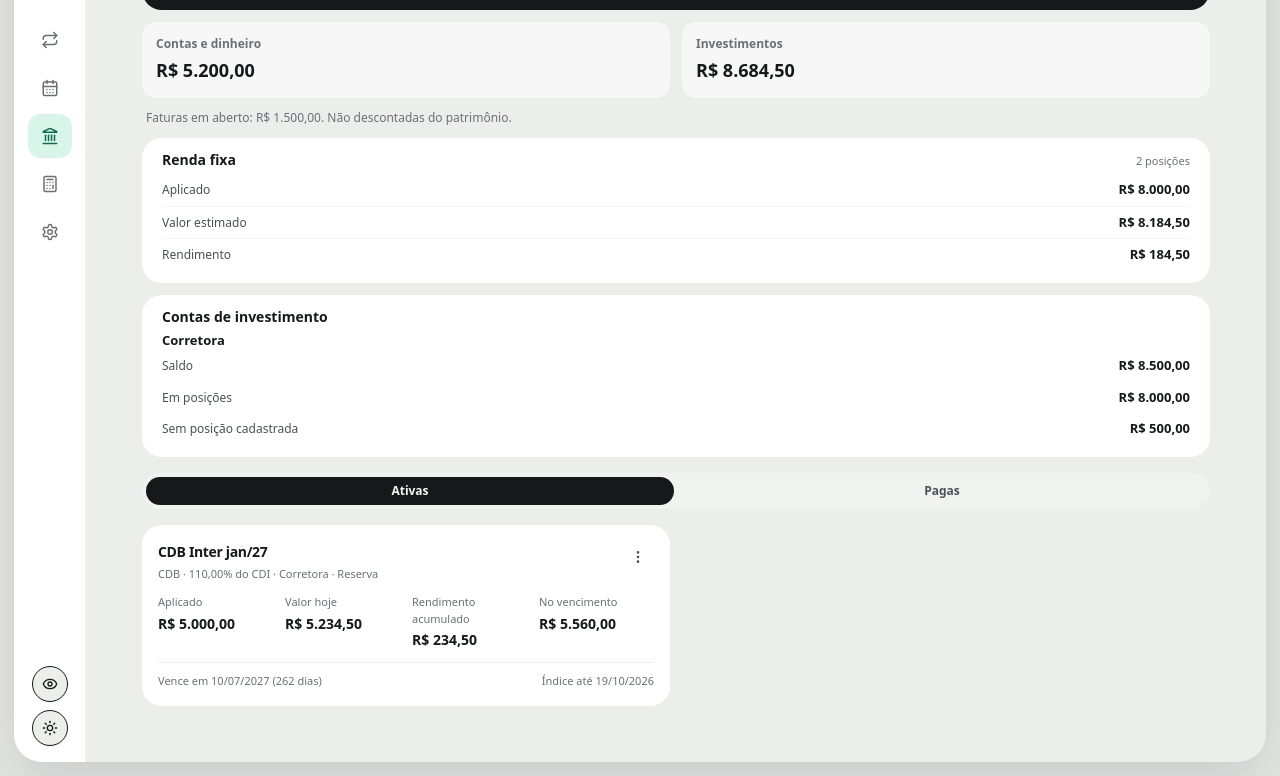
InvestmentsPage › listing › shows paid positions under their own tab, with received next to estimated
This screenshot has width=1280, height=776.
(page scrolled)
Click the tab "Pagas" at (942, 490), box [678,476,1206,504]
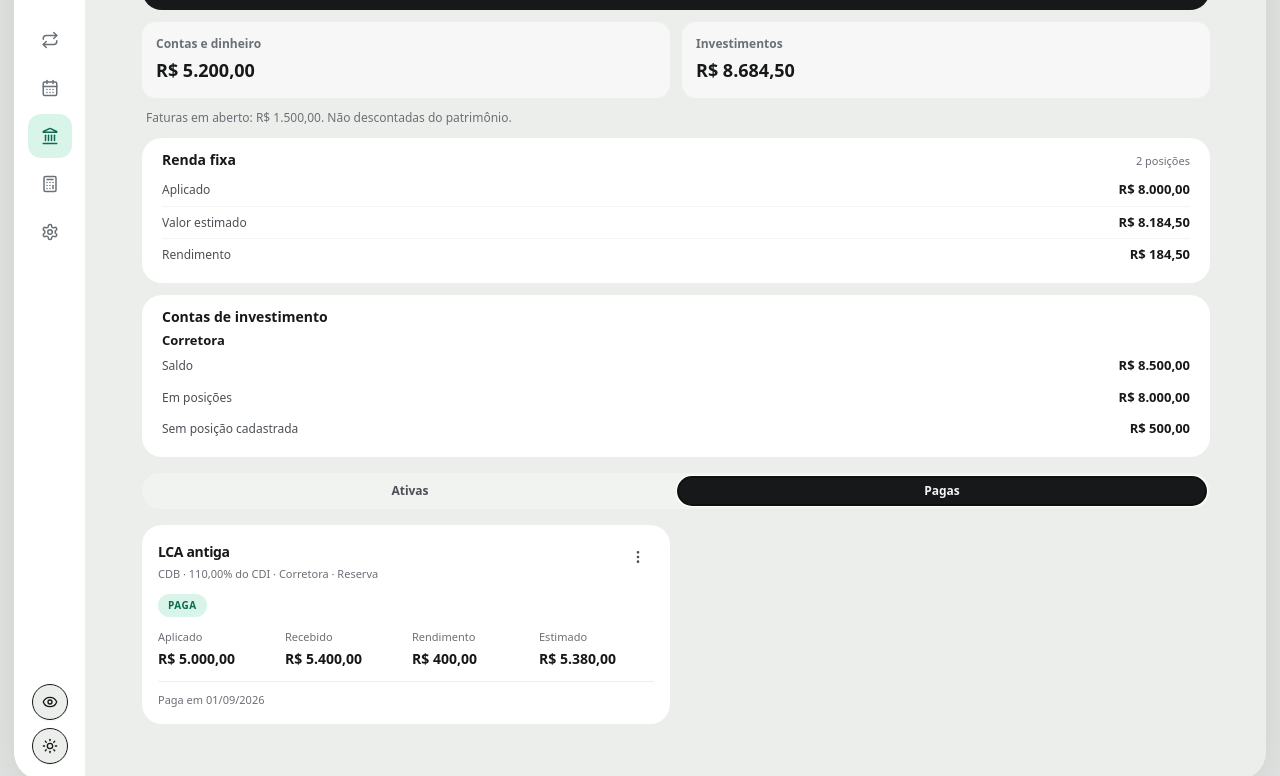
Expected: the text "Paga" is shown, [158,594,207,617]
Expected: the text with test id "received" shows "5.400,00", [285,648,362,668]
Expected: the text "Estimado" is shown, [539,629,587,644]
